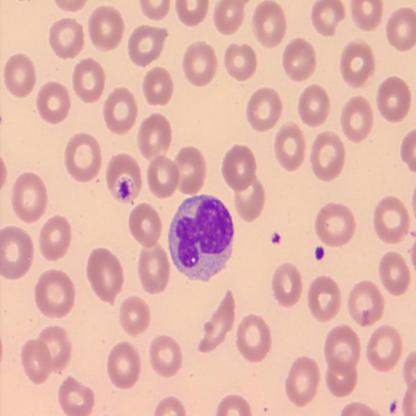Monocyte: (168, 192, 237, 284)
